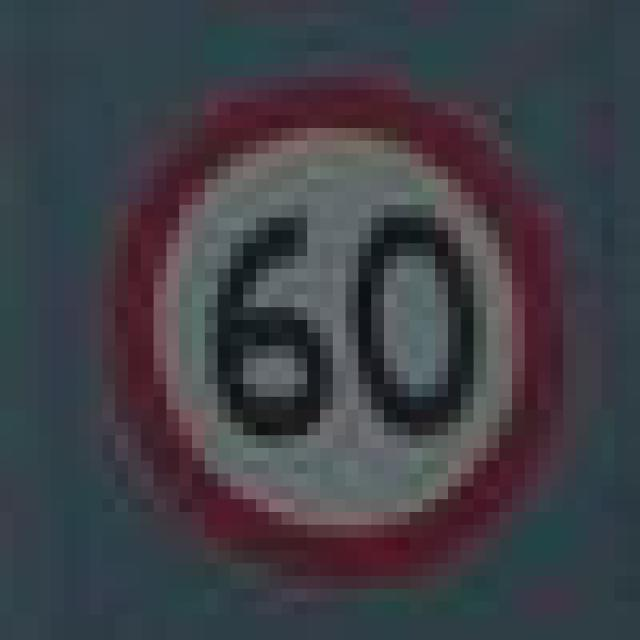speed_limit_40: (90, 64, 563, 576)
